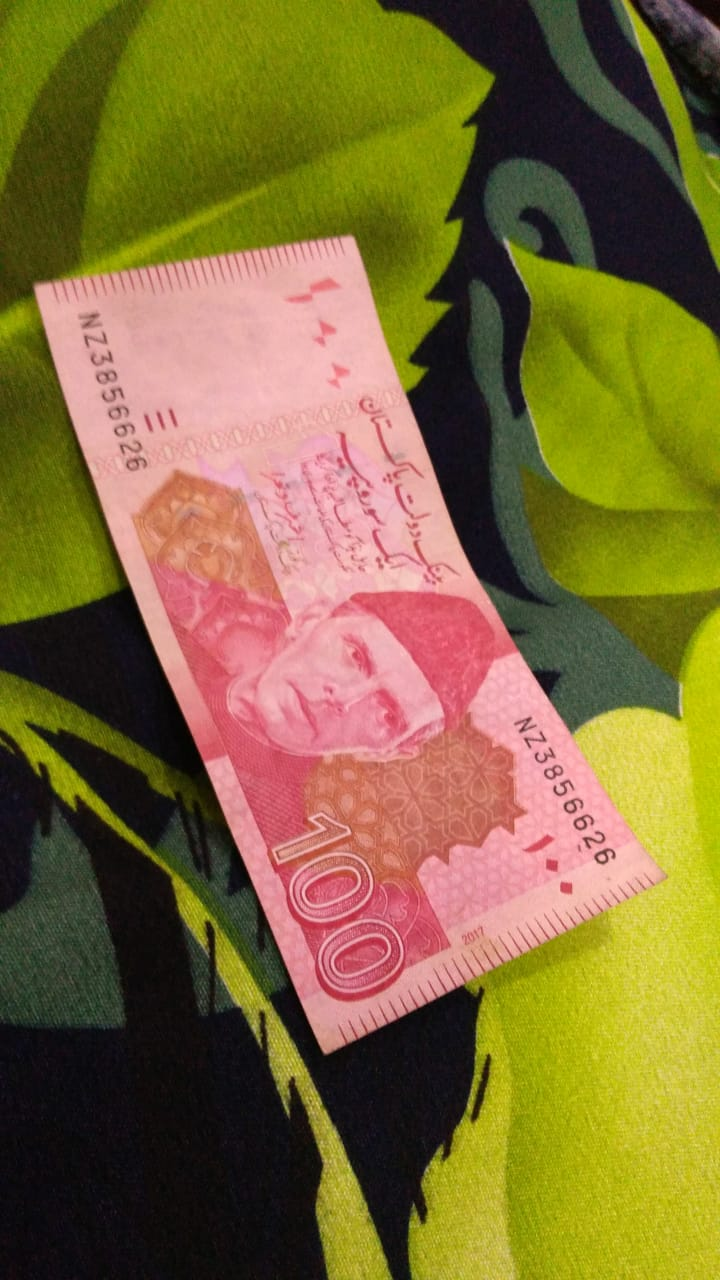100 rupee: (25, 218, 665, 1068)
